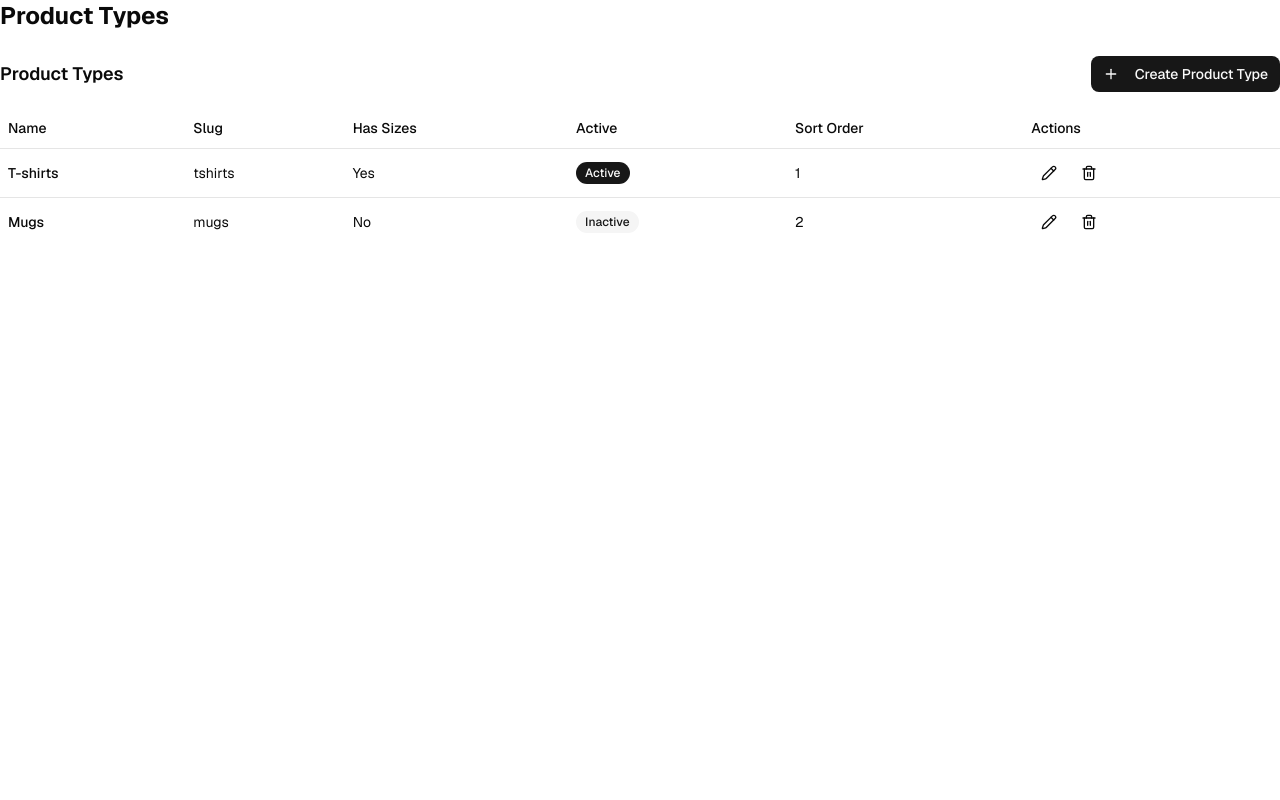
Test: ProductTypesPage › should open delete dialog on Delete click
This screenshot has width=1280, height=800.
Expected: the text "T-shirts" is shown, x1=0 y1=148 x2=185 y2=197
Step 1. Click the button named "delete" → coordinates (1089, 172), box x1=1071 y1=156 x2=1107 y2=188
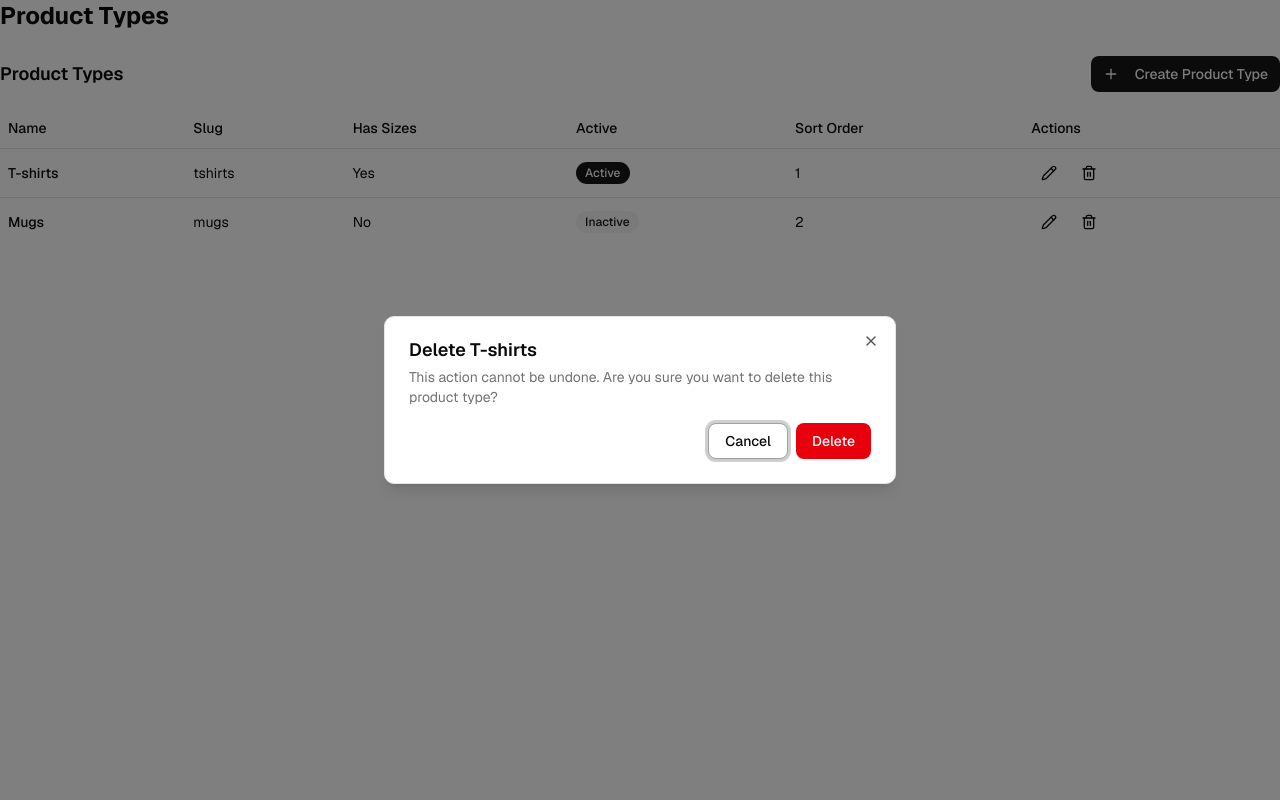
Now the heading "Delete T-shirts" is shown, box x1=409 y1=338 x2=537 y2=361
